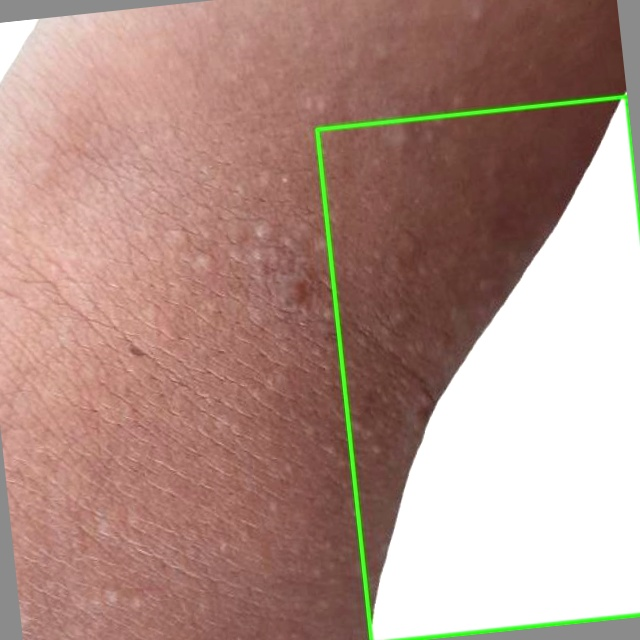Scabies: (316, 96, 639, 639)
